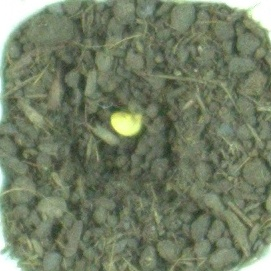pepper seed: (36, 41, 181, 178)
